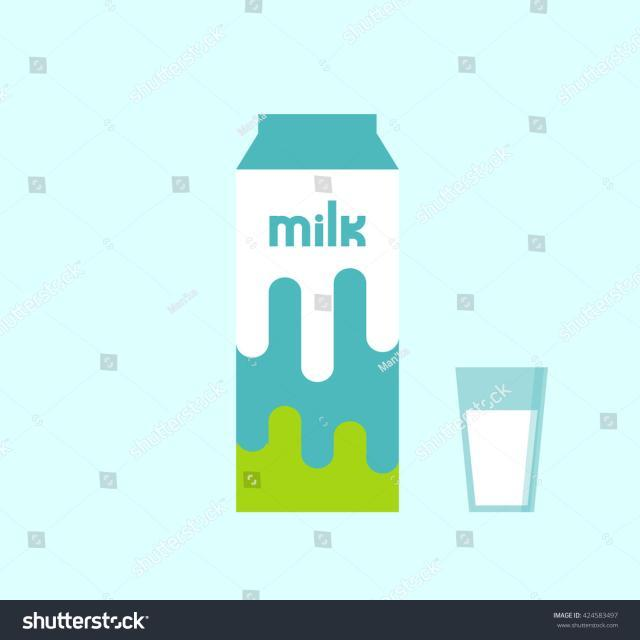Carton: (204, 98, 430, 530)
